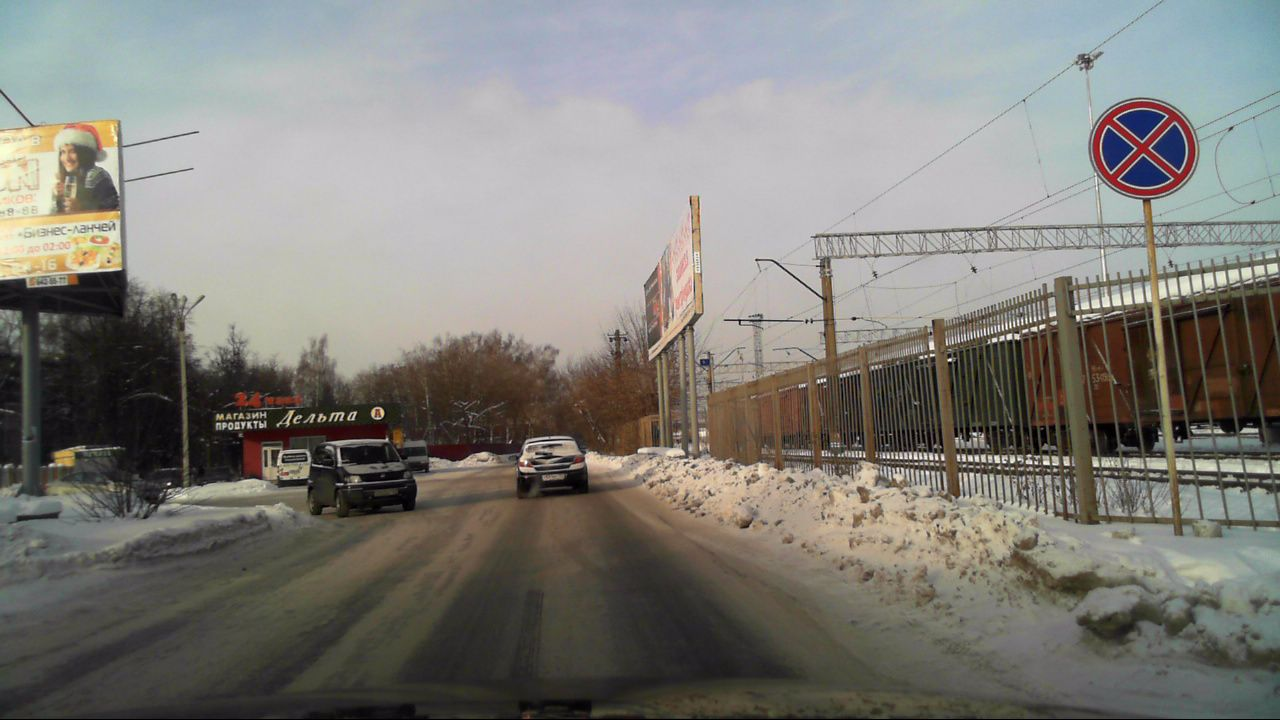No Parking: (1089, 99, 1199, 199)
